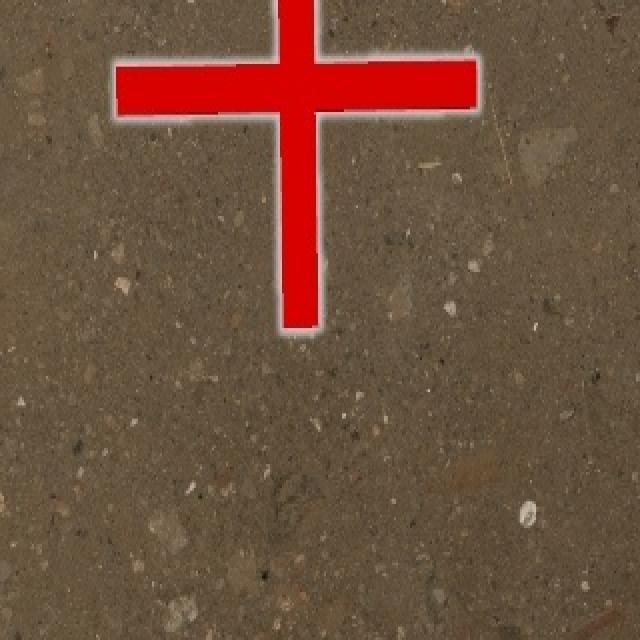x_marker: (115, 0, 477, 331)
